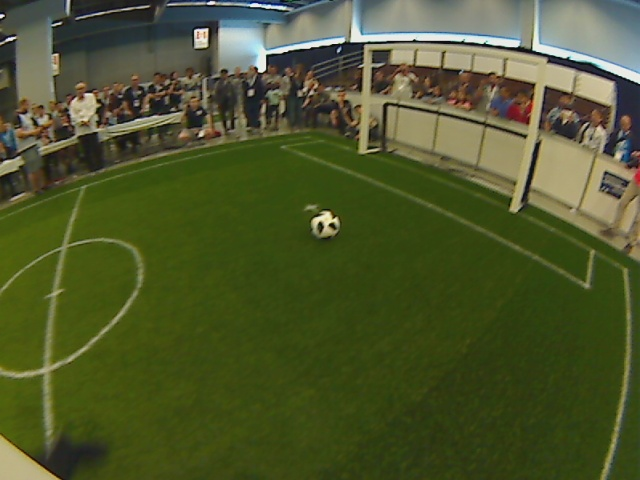ball: (307, 209, 342, 240)
